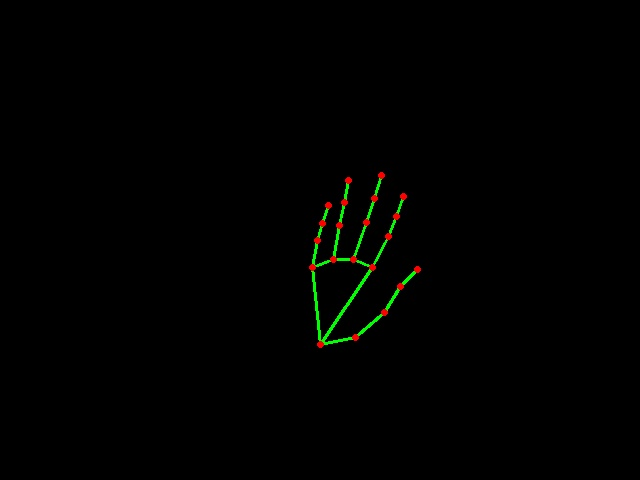stop: (305, 161, 430, 355)
